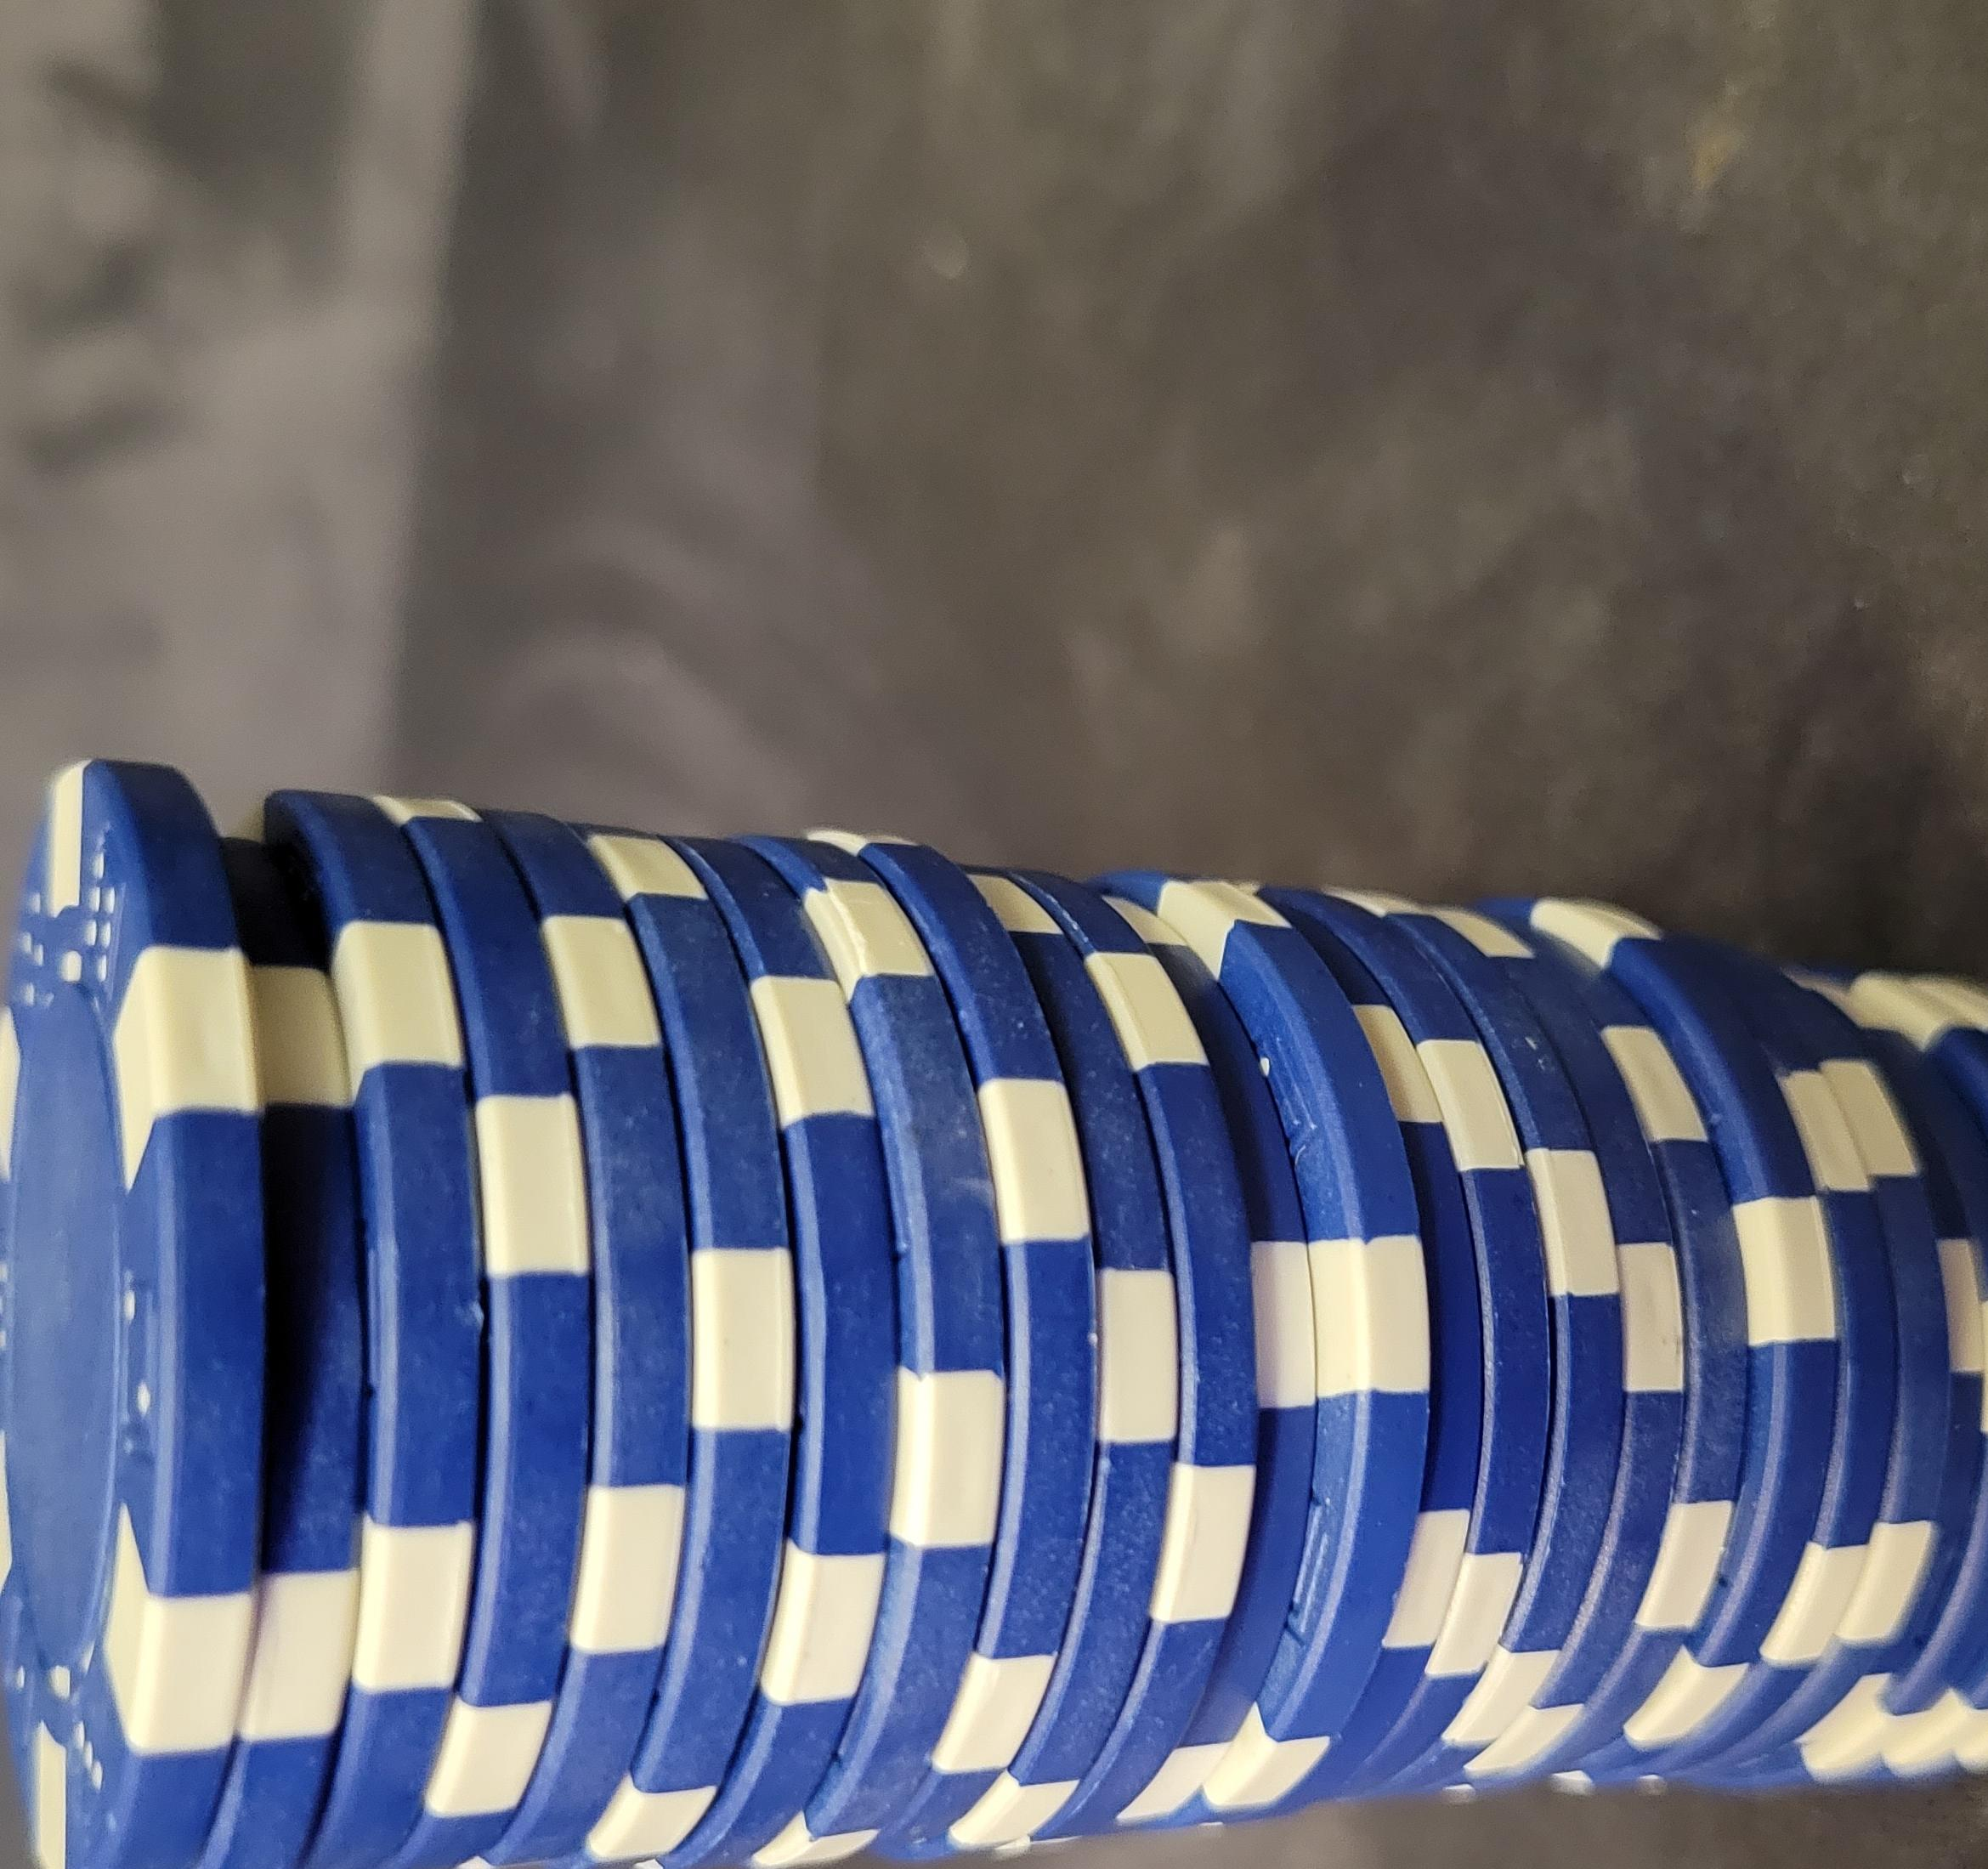Chip: (0, 51, 1382, 1869)
